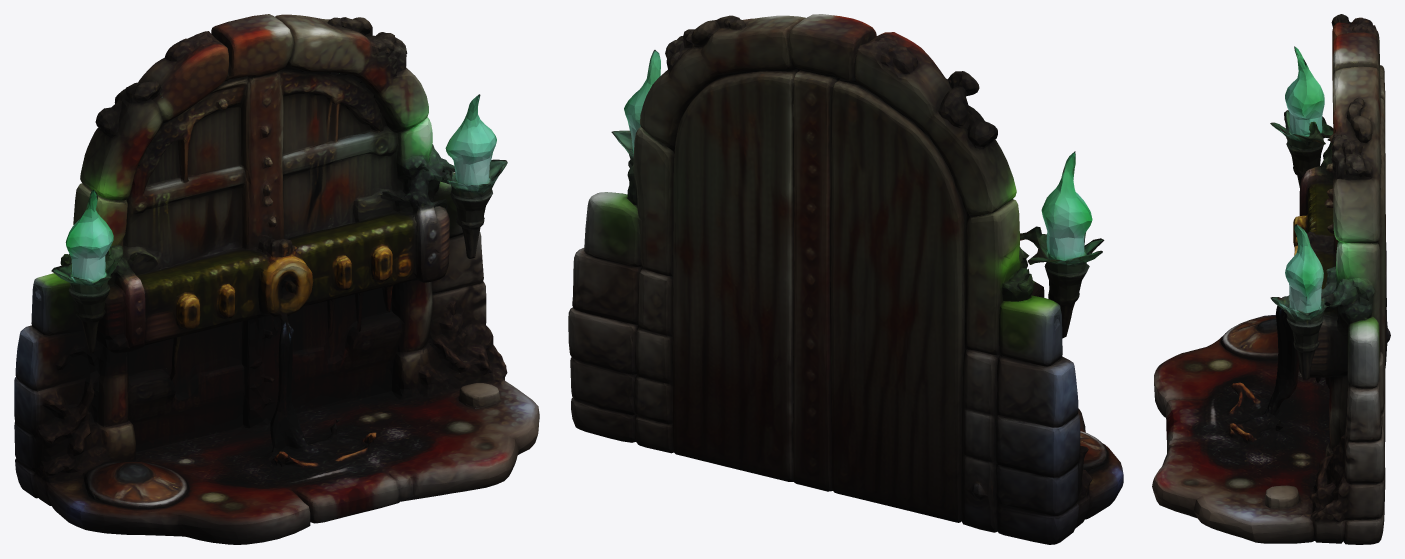
File: Gate.glb
The picture shows the model from 3 angles, left to right: view 1: azimuth 30°, elevation 25°; view 2: azimuth 150°, elevation 25°; view 3: azimuth 270°, elevation 25°; orthographic projection. The views are drawn at different scales.
Visible parts, largest first — view 1: world; view 2: world; view 3: world.
Boxes of the visible parts, x1,y1,x2,y2 form: world: (14,14,539,544); world: (568,14,1123,544); world: (1152,14,1390,544).
Bounding box in the file's own units: 0.9958 × 0.8678 × 0.4747.
Materials: 1 (1 with a texture image).
